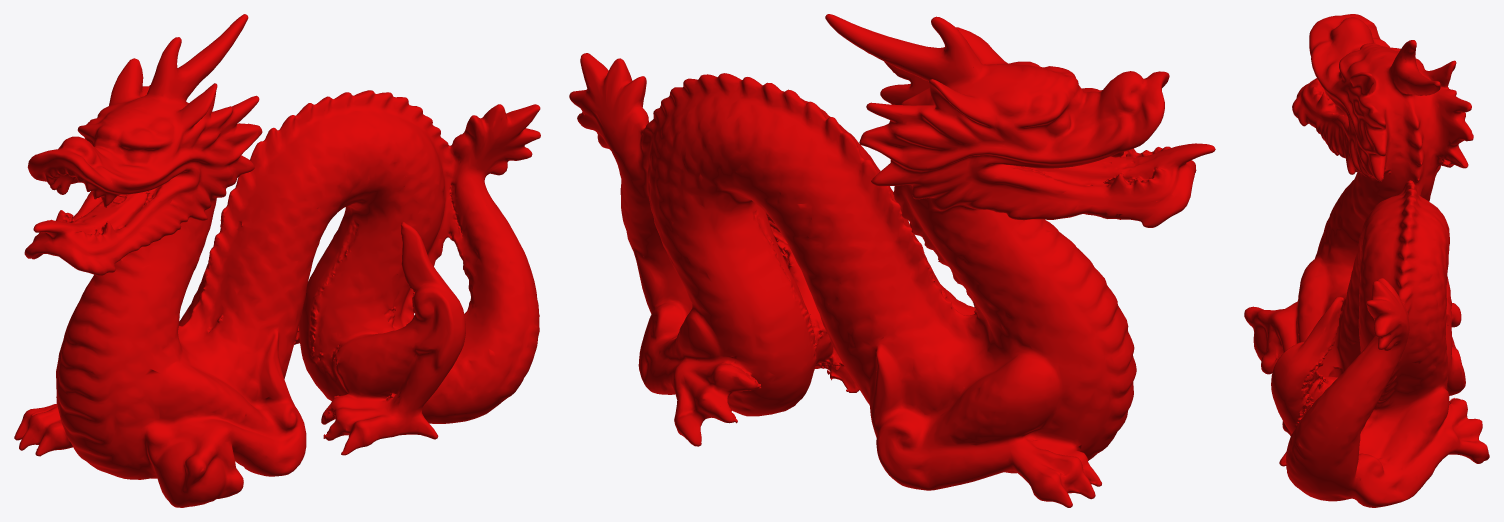
The model's file is Dragon.glb.
The picture shows the model from 3 angles, left to right: view 1: azimuth 30°, elevation 25°; view 2: azimuth 150°, elevation 25°; view 3: azimuth 270°, elevation 25°; orthographic projection. The views are drawn at different scales.
Visible parts, largest first — view 1: objdefault; view 2: objdefault; view 3: objdefault.
Part boxes in pixels (left/top/right/bottom): objdefault: left=14, top=14, right=540, bottom=507; objdefault: left=569, top=14, right=1215, bottom=507; objdefault: left=1244, top=14, right=1489, bottom=507.
Bounding box in the file's own units: 2.99 × 2.11 × 1.34.
